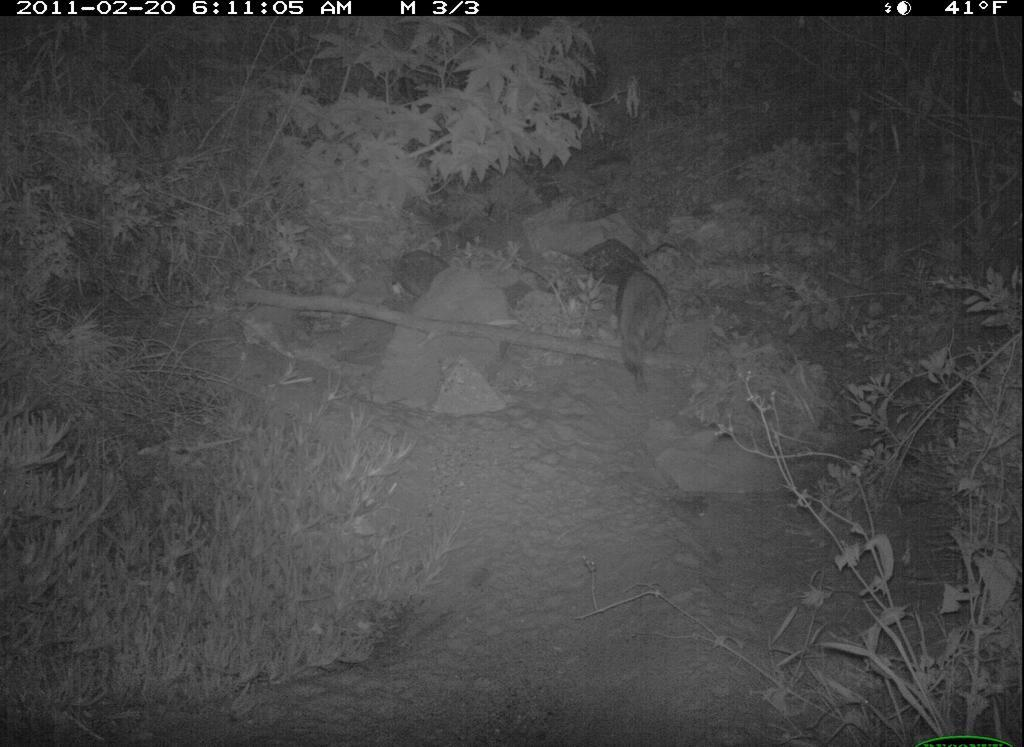raccoon: (596, 246, 685, 382)
